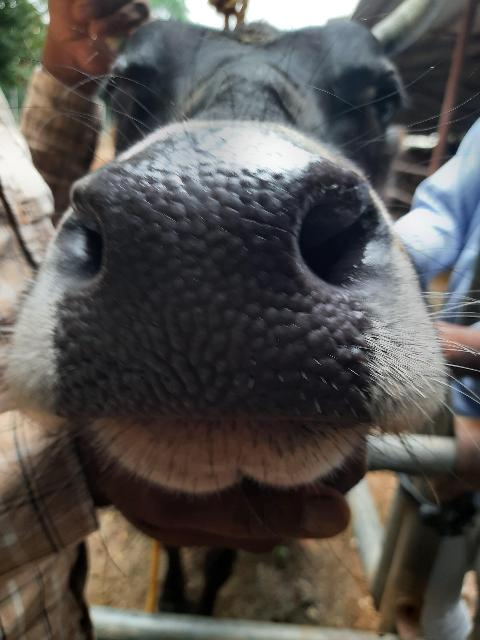Muzzle: (78, 170, 368, 430)
